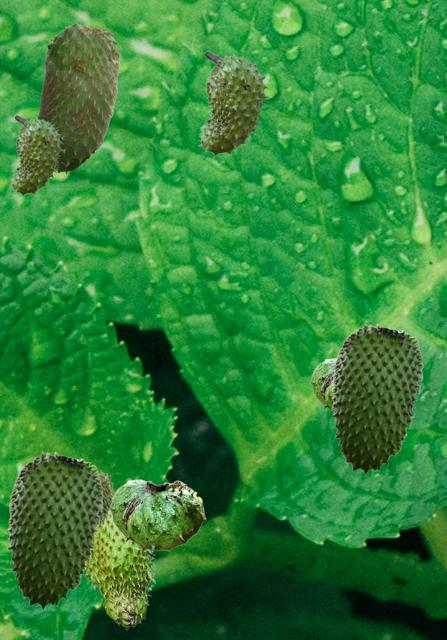guyabano: (7, 451, 102, 609), (331, 323, 422, 474), (38, 22, 121, 173), (84, 512, 156, 629), (197, 51, 270, 157), (109, 479, 205, 554), (9, 115, 64, 196), (310, 358, 335, 412), (96, 472, 113, 530)
